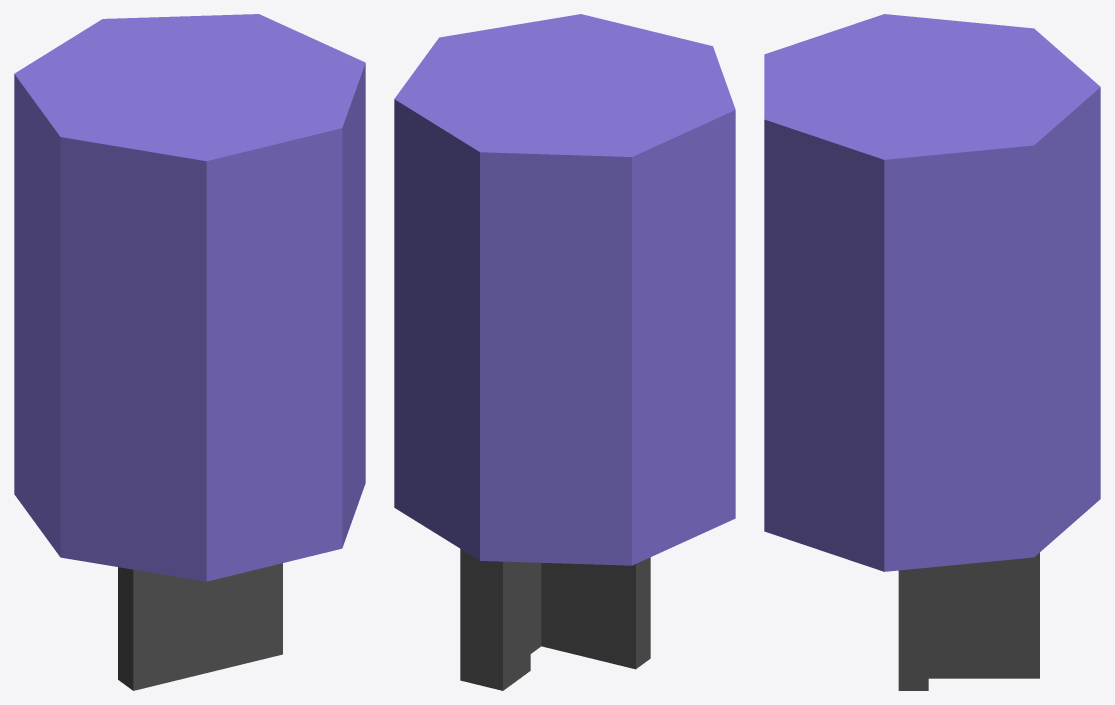
The model's file is capacitor.glb.
The picture shows the model from 3 angles, left to right: view 1: azimuth 30°, elevation 25°; view 2: azimuth 150°, elevation 25°; view 3: azimuth 270°, elevation 25°; orthographic projection. The views are drawn at different scales.
Parts seen in each view (by area): view 1: capacitor; view 2: capacitor; view 3: capacitor.
Part boxes in pixels (x1,y1,x2,y2): capacitor: (14,14,365,690); capacitor: (394,14,735,690); capacitor: (764,14,1100,690).
Bounding box in the file's own units: 0.2623 × 0.4754 × 0.2557.
